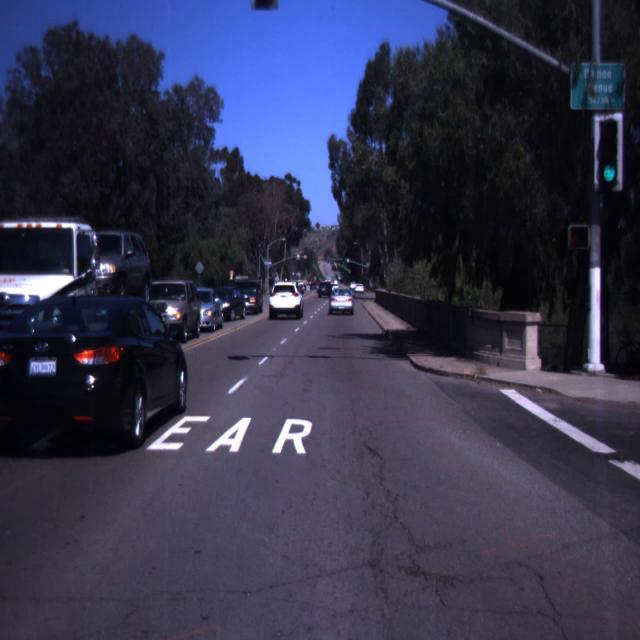yesil: (598, 119, 618, 189)
